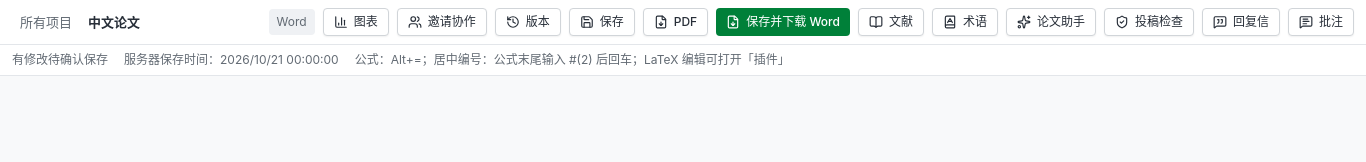
Test: Word 工作台 › 保存失败保留明确错误并取消下载，不声称已保存
Click the button with test id "word-download". click: click(783, 22)
box: [716, 8, 850, 36]
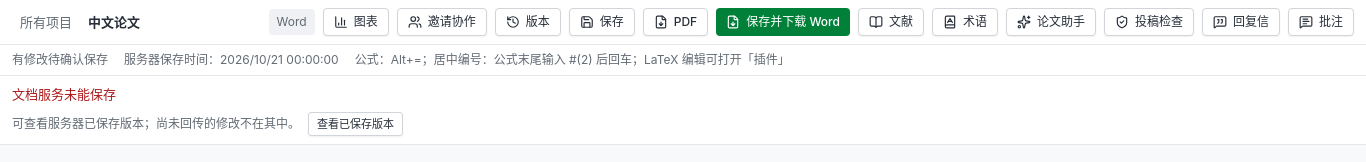
expect the text "有修改待确认保存" is shown: met, box [12, 51, 108, 69]
expect the text "文档服务未能保存" is shown: met, box [12, 86, 116, 102]
